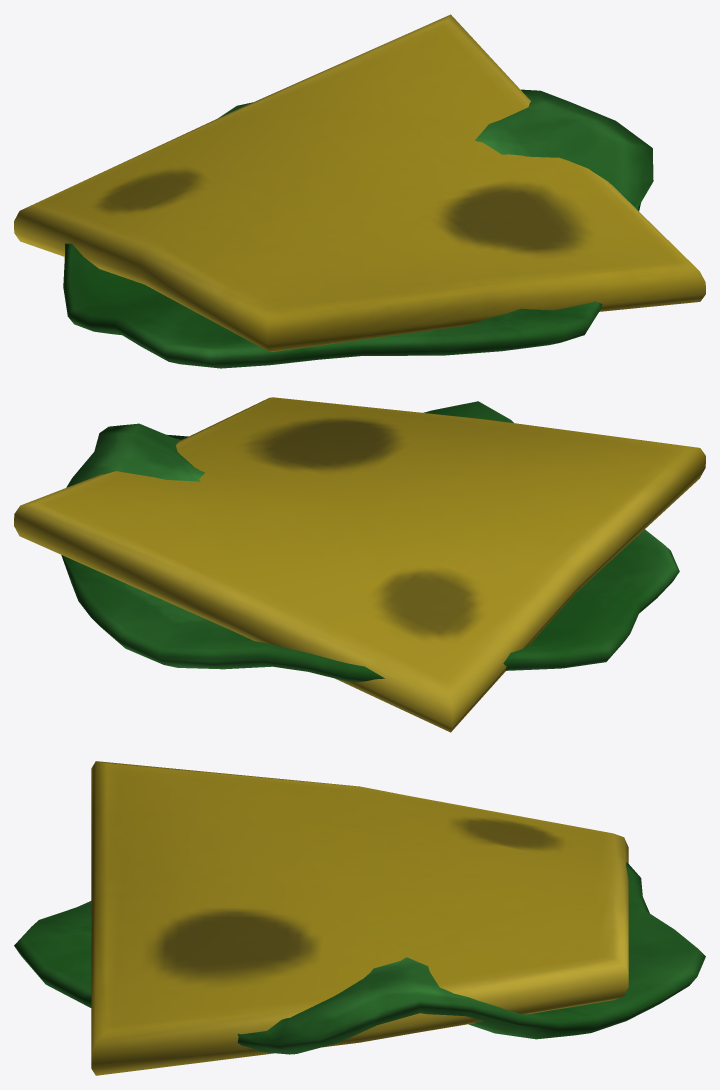
File: MSH_Q_L.fbx
3 views of the same model, one above another, from view 1: azimuth 30°, elevation 25°; view 2: azimuth 150°, elevation 25°; view 3: azimuth 270°, elevation 25° (orthographic). The views are drawn at different scales.
Visible parts, largest first — view 1: MSH_Q_L; view 2: MSH_Q_L; view 3: MSH_Q_L.
Boxes of the visible parts, box(x1,y1,x2,y2) form: MSH_Q_L: box(14, 14, 705, 368); MSH_Q_L: box(14, 397, 705, 732); MSH_Q_L: box(14, 761, 705, 1075).
Size of the model in its own units: 16.25 by 16.87 by 3.98.
1 material, 1 textured.
